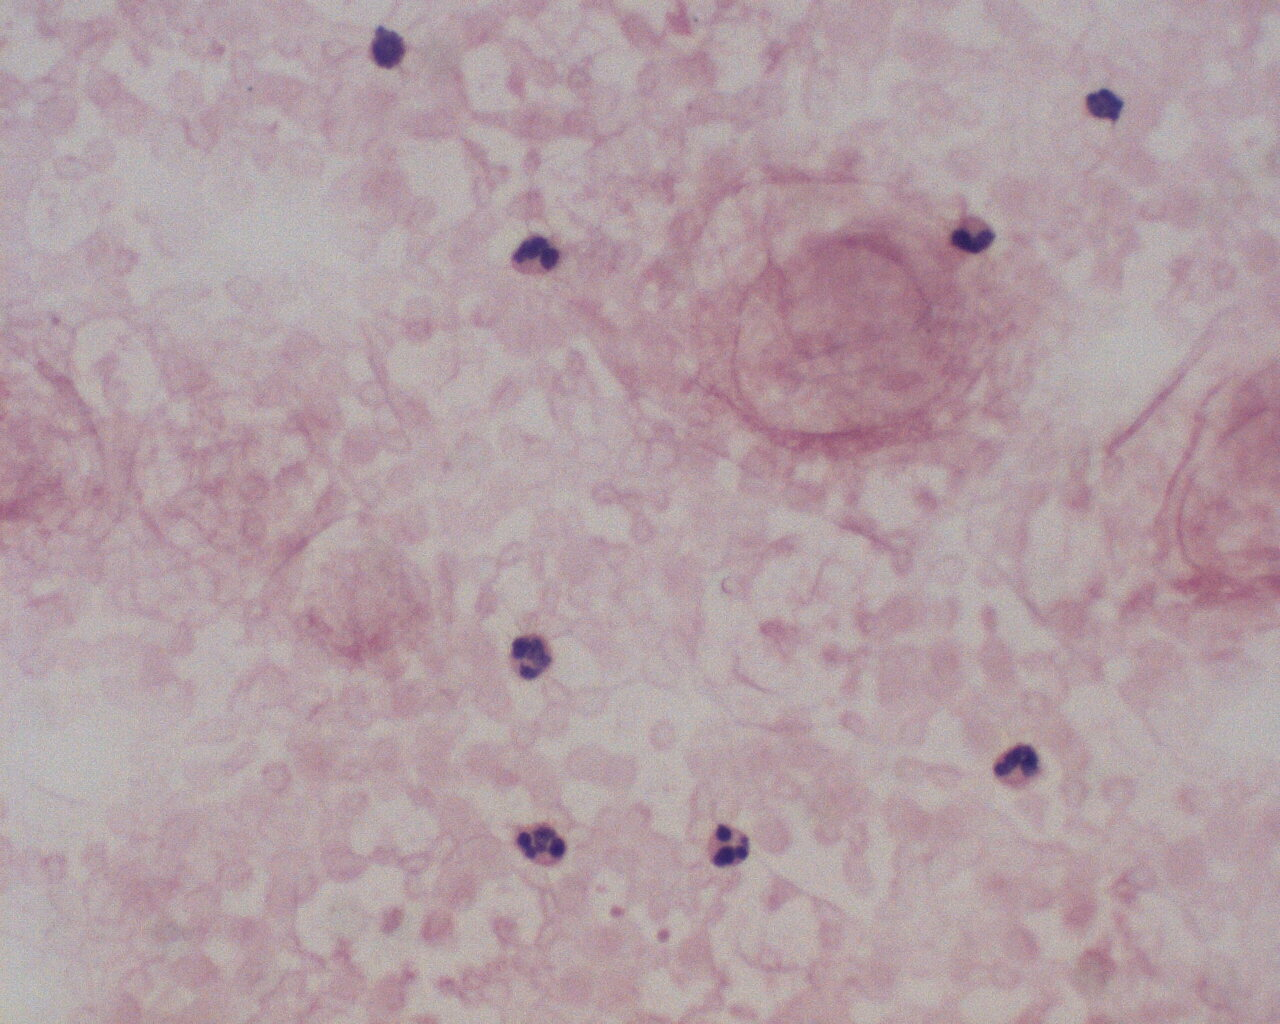neutro: (514, 814, 574, 877), (507, 229, 568, 284), (505, 623, 557, 684), (985, 737, 1045, 788), (703, 820, 757, 871), (950, 214, 996, 258)
